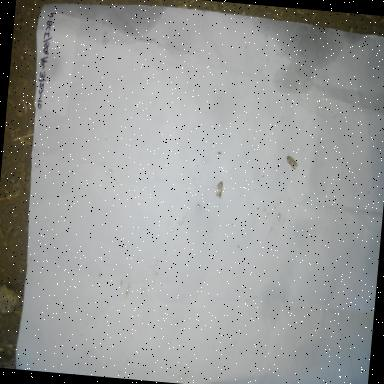pbw: (284, 150, 300, 172), (212, 178, 226, 202)
